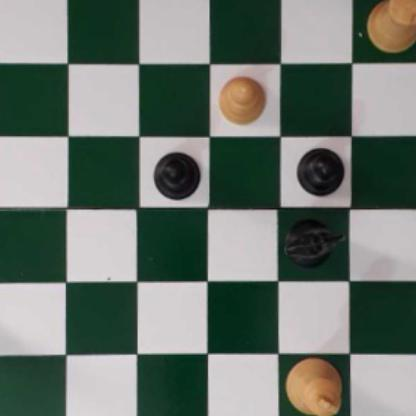black-knight: (284, 214, 347, 269)
black-pawn: (151, 151, 202, 201), (296, 144, 344, 196)
white-king: (281, 353, 344, 416)
white-pawn: (215, 72, 266, 126)
white-rook: (364, 0, 416, 54)
